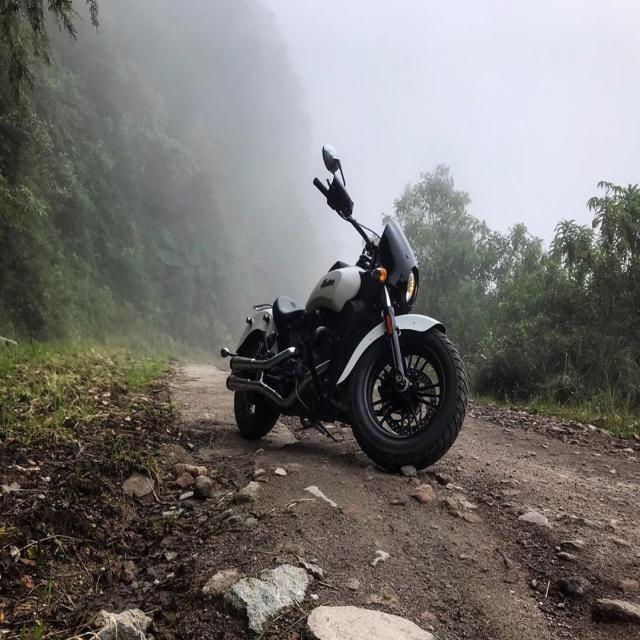motorcycle: (221, 147, 468, 470)
